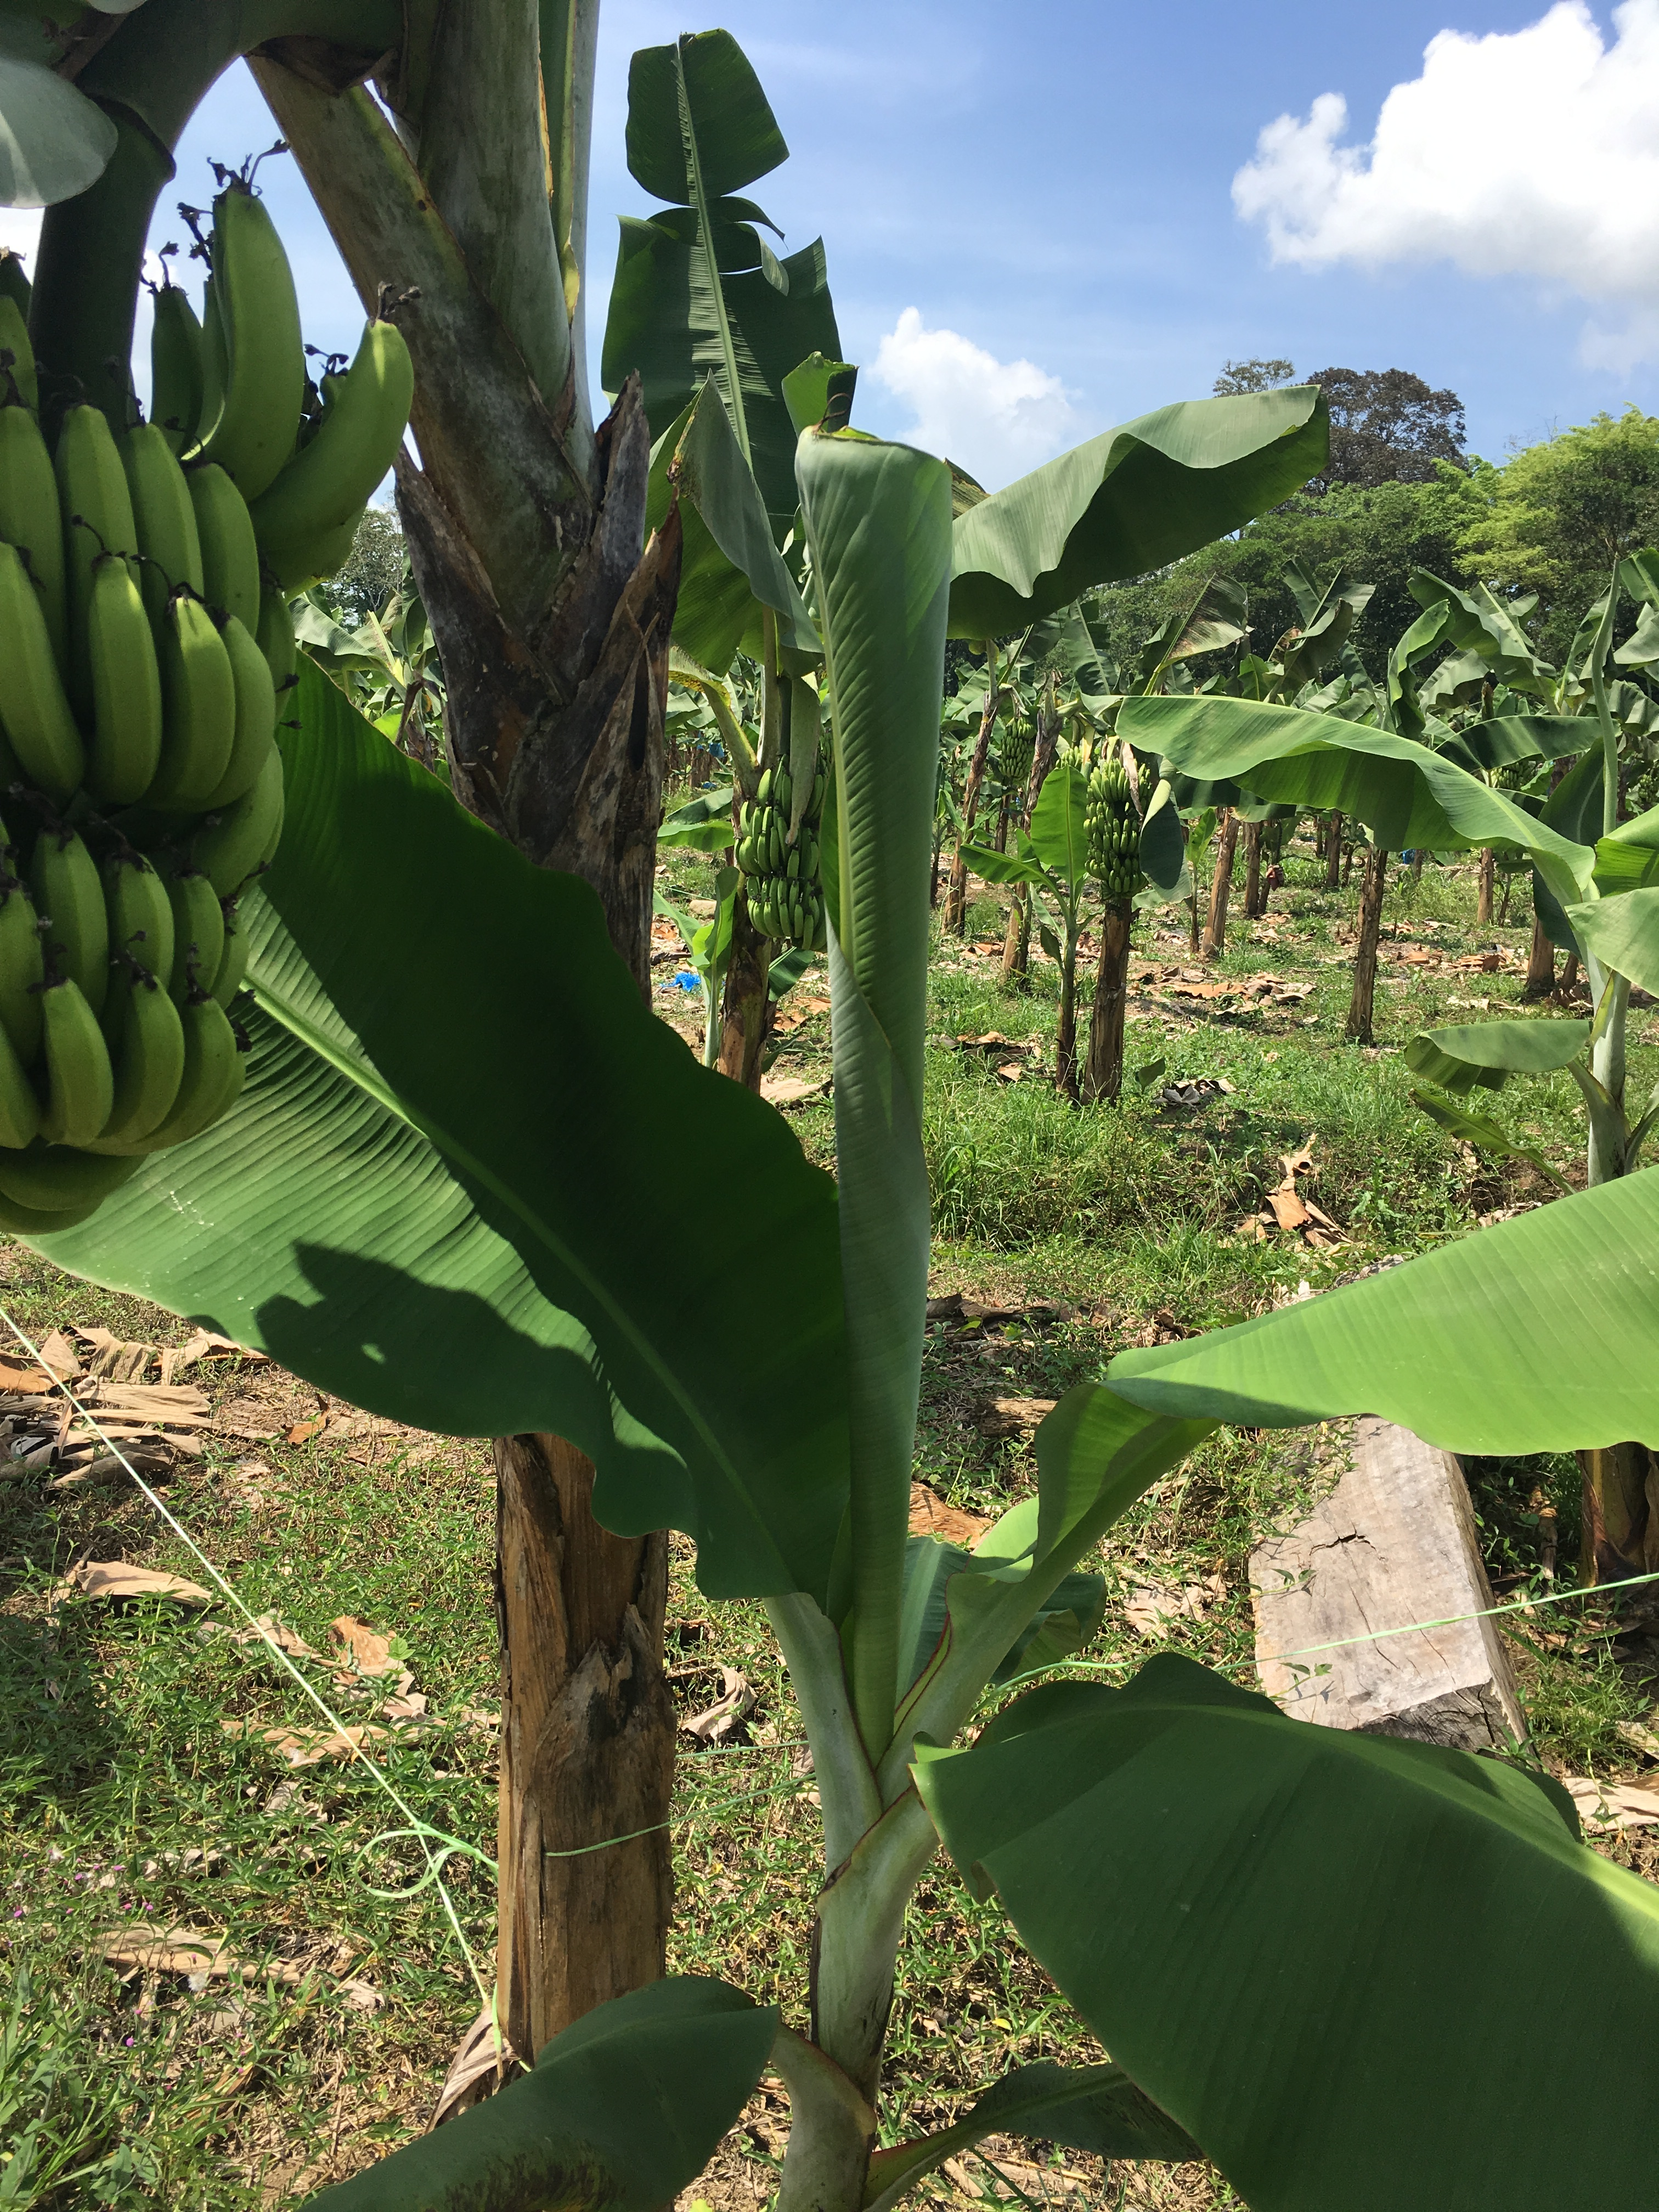candleleafs: (782, 416, 962, 1716)
